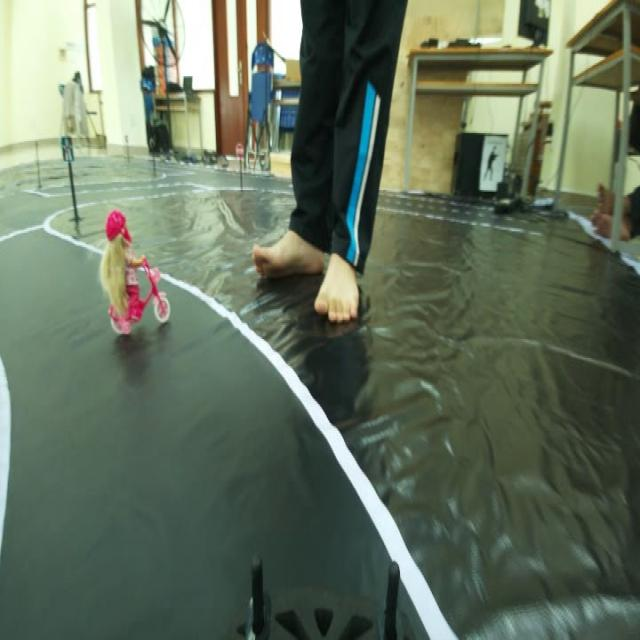pedestrian: (83, 216, 177, 340)
